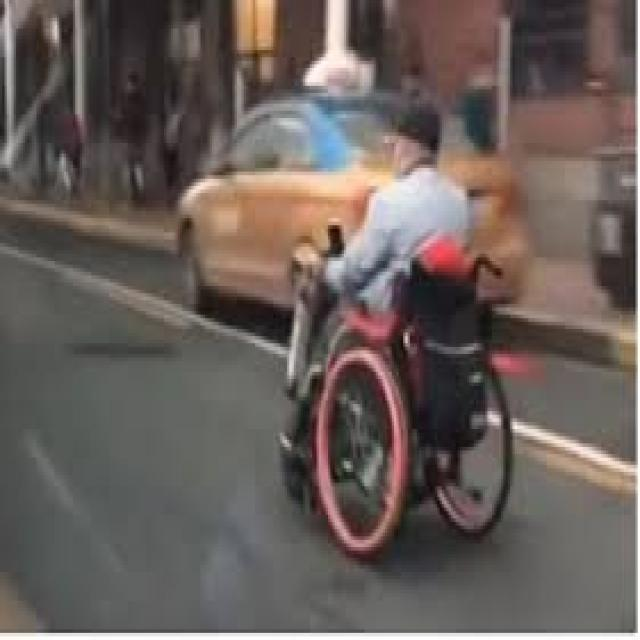wheelchairs: (278, 232, 524, 558)
